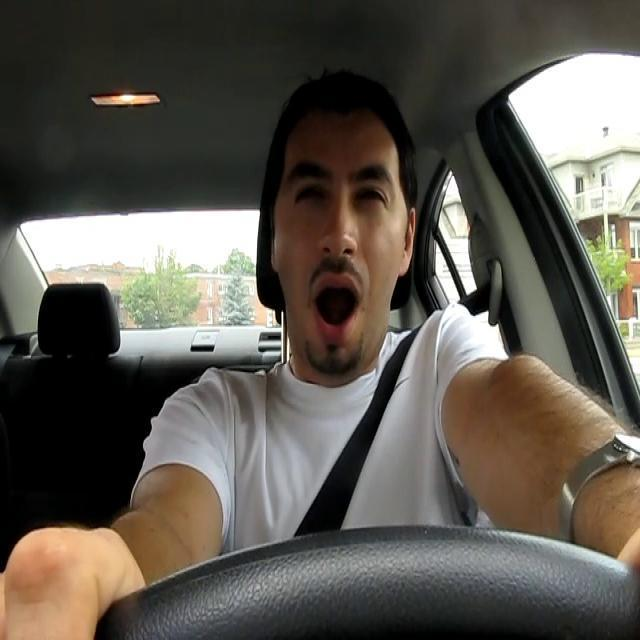open-mouth: (309, 274, 364, 338)
